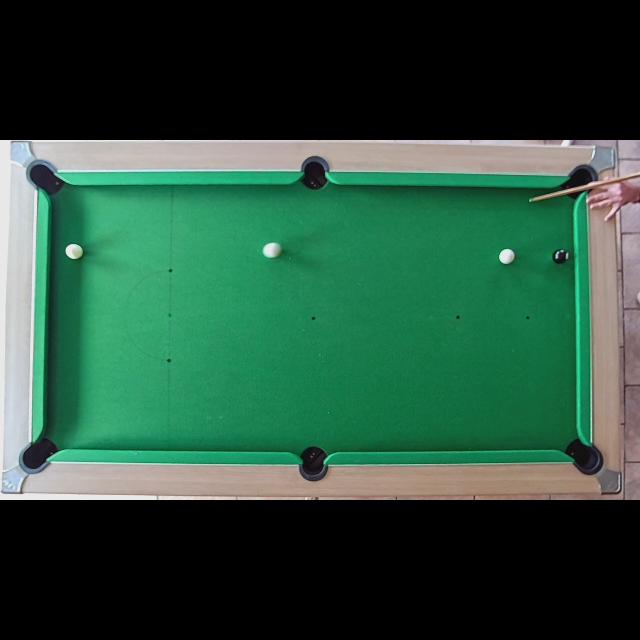Ball: (262, 242, 280, 258), (553, 248, 569, 264), (66, 244, 82, 258), (500, 248, 514, 264)
